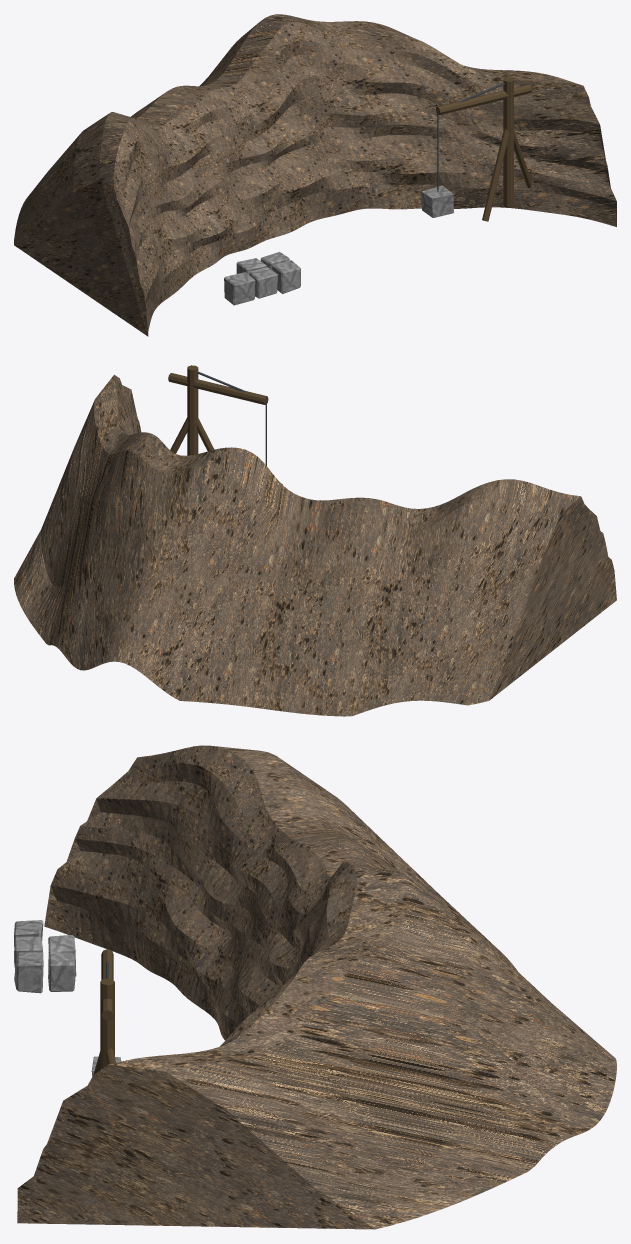
The model's file is QuarryGeologyV18.glb.
3 views of the same model, one above another, from view 1: azimuth 30°, elevation 25°; view 2: azimuth 150°, elevation 25°; view 3: azimuth 270°, elevation 25° (orthographic). The views are drawn at different scales.
Visible parts, largest first — view 1: Quarry Geological Scarp / continuous inspected source v18, Retained functional quarry equipment / Quarry timber derrick, Retained functional quarry equipment / Quarry extracted lime; view 2: Quarry Geological Scarp / continuous inspected source v18, Retained functional quarry equipment / Quarry timber derrick; view 3: Quarry Geological Scarp / continuous inspected source v18, Retained functional quarry equipment / Quarry extracted lime, Retained functional quarry equipment / Quarry timber derrick.
Boxes of the visible parts, <box> form: Quarry Geological Scarp / continuous inspected source v18: <box>14,14,616,336</box>; Retained functional quarry equipment / Quarry timber derrick: <box>421,77,532,221</box>; Retained functional quarry equipment / Quarry extracted lime: <box>224,251,300,305</box>; Quarry Geological Scarp / continuous inspected source v18: <box>14,374,616,716</box>; Retained functional quarry equipment / Quarry timber derrick: <box>168,365,282,484</box>; Quarry Geological Scarp / continuous inspected source v18: <box>17,745,616,1229</box>; Retained functional quarry equipment / Quarry extracted lime: <box>14,920,76,993</box>; Retained functional quarry equipment / Quarry timber derrick: <box>91,949,121,1076</box>.
Bounding box in the file's own units: 18.43 × 6.52 × 15.3.
Materials: 6 (4 with a texture image).
